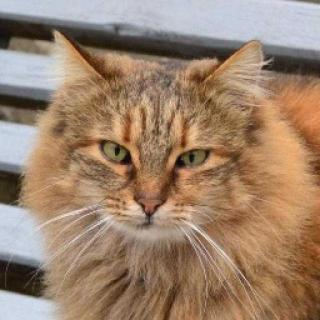cat: (49, 25, 270, 253)
nose: (135, 178, 168, 221)
